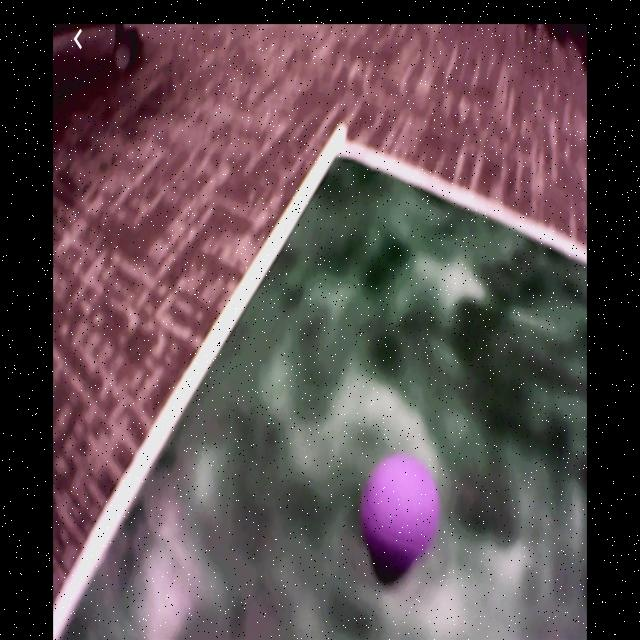ball: (364, 454, 440, 569)
